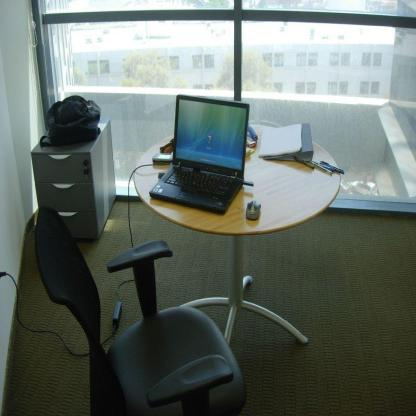board: (152, 97, 253, 215)
